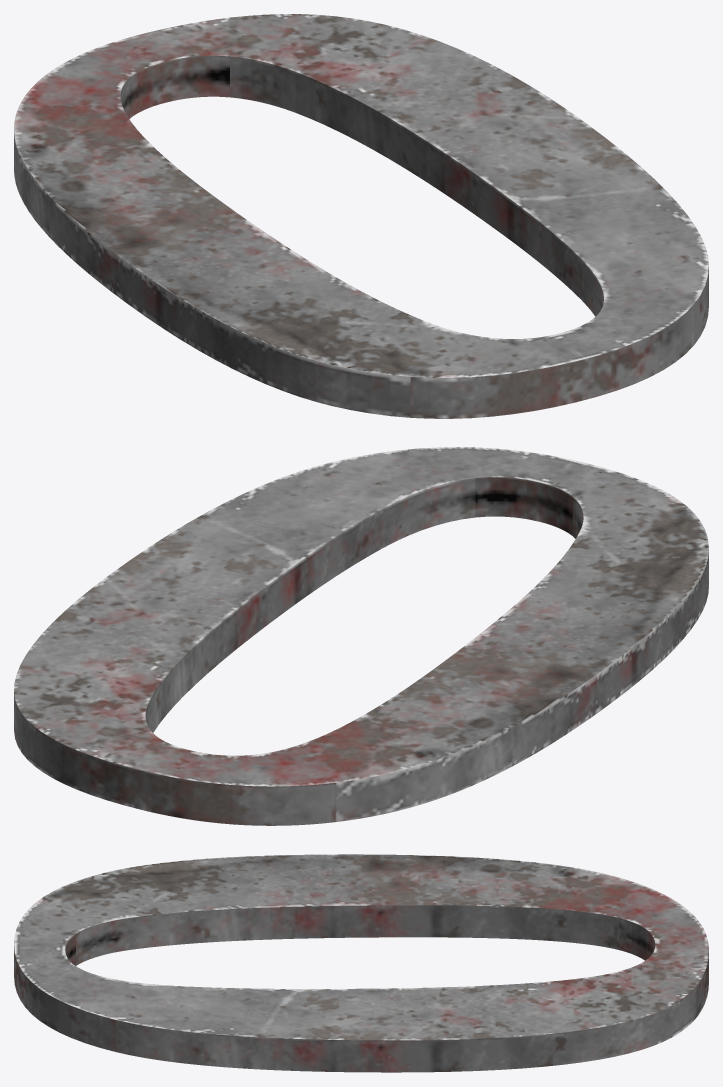
File: counter_num_0.fbx
3 views of the same model, one above another, from view 1: azimuth 30°, elevation 25°; view 2: azimuth 150°, elevation 25°; view 3: azimuth 270°, elevation 25° (orthographic). The views are drawn at different scales.
Parts seen in each view (by area): view 1: 0; view 2: 0; view 3: 0.
Boxes of the visible parts, box(x1,y1,x2,y2) form: 0: box(14, 14, 708, 418); 0: box(14, 447, 708, 825); 0: box(14, 854, 708, 1072).
Bounding box in the file's own units: 12.8 × 1.03 × 20.2.
